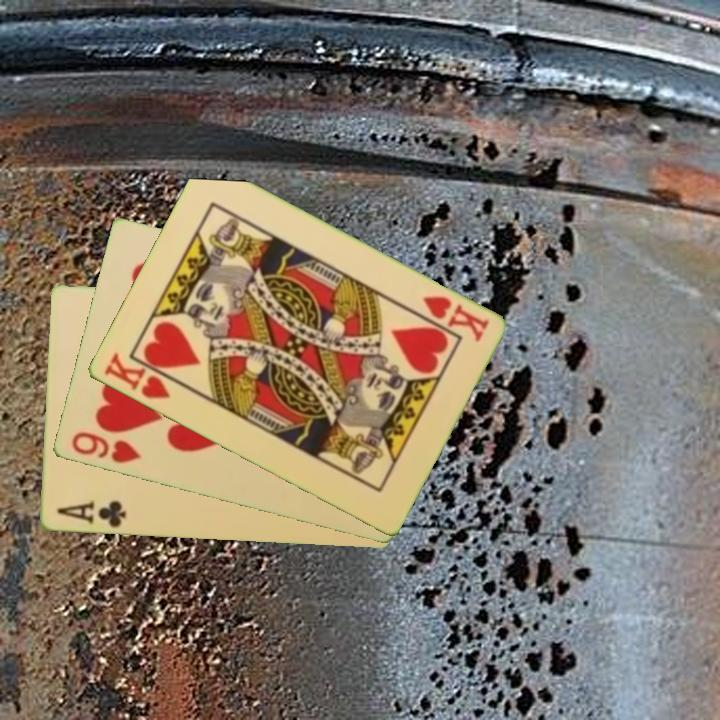9h: (67, 428, 143, 467)
Ac: (52, 497, 128, 531)
Kh: (100, 349, 184, 402), (418, 292, 492, 346)
